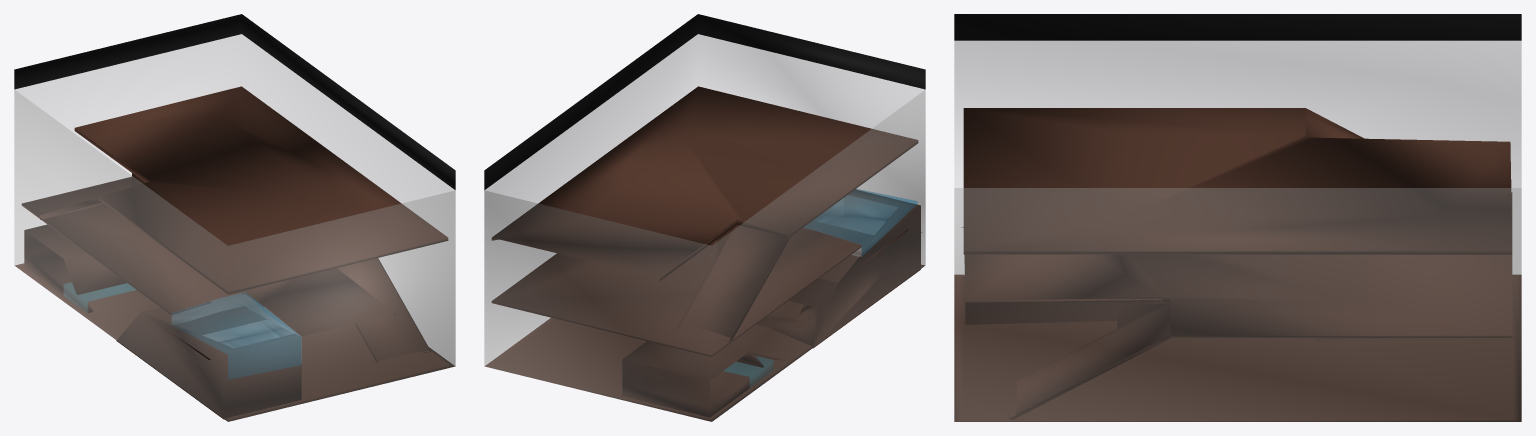
File: terrario.fbx
3 views of the same model, side by side, from view 1: azimuth 30°, elevation 25°; view 2: azimuth 150°, elevation 25°; view 3: azimuth 270°, elevation 25° (orthographic). The views are drawn at different scales.
Visible parts, largest first — view 1: Object_10, Object_12, Object_13, Object_11, Object_9, Object_6, Object_3, Object_5, Object_7; view 2: Object_10, Object_12, Object_13, Object_11, Object_6, Object_9, Object_3, Object_7; view 3: Object_10, Object_12, Object_11, Object_13.
Part boxes in pixels (left/top/right/bottom): Object_10: left=14, top=34, right=455, bottom=421; Object_12: left=15, top=86, right=454, bottom=421; Object_13: left=116, top=299, right=302, bottom=419; Object_11: left=14, top=14, right=455, bottom=189; Object_9: left=172, top=292, right=300, bottom=378; Object_6: left=24, top=224, right=155, bottom=323; Object_3: left=203, top=320, right=292, bottom=347; Object_5: left=172, top=293, right=299, bottom=335; Object_7: left=64, top=282, right=135, bottom=312; Object_10: left=484, top=34, right=925, bottom=421; Object_12: left=485, top=86, right=924, bottom=421; Object_13: left=756, top=189, right=921, bottom=348; Object_11: left=484, top=14, right=925, bottom=189; Object_6: left=622, top=341, right=786, bottom=417; Object_9: left=804, top=189, right=917, bottom=255; Object_3: left=815, top=196, right=897, bottom=234; Object_7: left=724, top=356, right=773, bottom=387; Object_10: left=954, top=41, right=1521, bottom=421; Object_12: left=954, top=108, right=1521, bottom=421; Object_11: left=954, top=14, right=1521, bottom=40; Object_13: left=961, top=227, right=1117, bottom=324.
Bounding box in the file's own units: 1019 × 840 × 1649.
